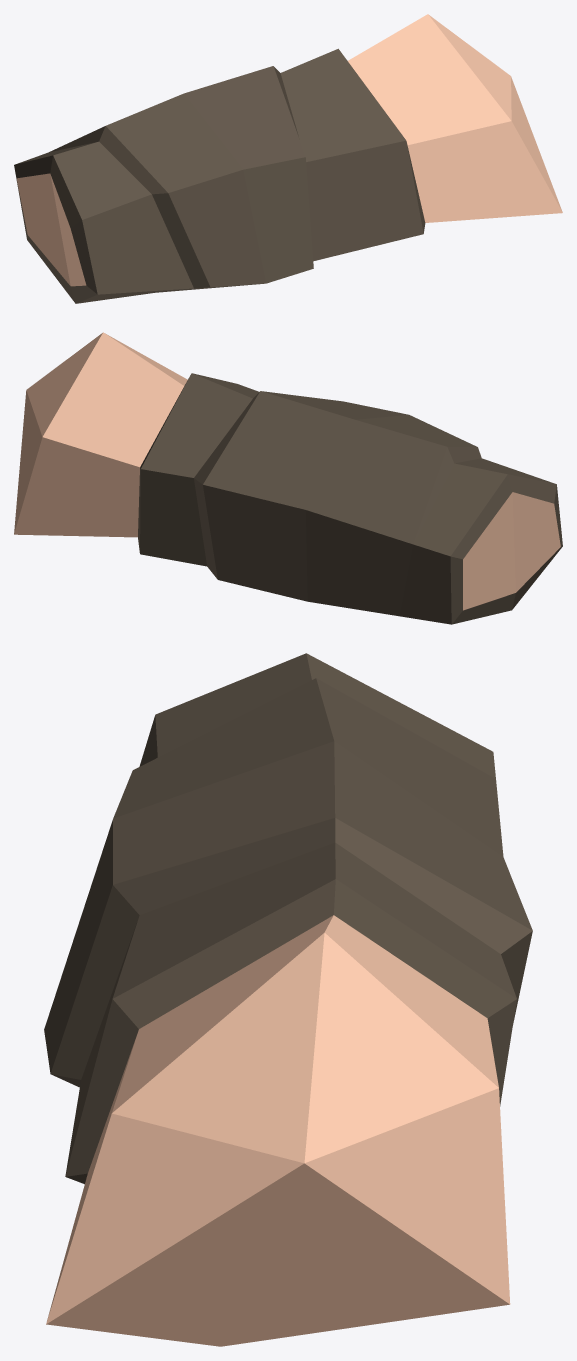
Rendered from Chr_ArmUpperRight_Male_11_Static.fbx.
3 renders of one model, top to bottom at view 1: azimuth 30°, elevation 25°; view 2: azimuth 150°, elevation 25°; view 3: azimuth 270°, elevation 25°, orthographic. The views are drawn at different scales.
Parts seen in each view (by area): view 1: Chr_ArmUpperRight_Male_11_Static; view 2: Chr_ArmUpperRight_Male_11_Static; view 3: Chr_ArmUpperRight_Male_11_Static.
Boxes of the visible parts, x1,y1,x2,y2 form: Chr_ArmUpperRight_Male_11_Static: (14,14,562,303); Chr_ArmUpperRight_Male_11_Static: (14,332,562,624); Chr_ArmUpperRight_Male_11_Static: (44,653,532,1346).
Size of the model in its own units: 0.3345 by 0.1363 by 0.1504.
